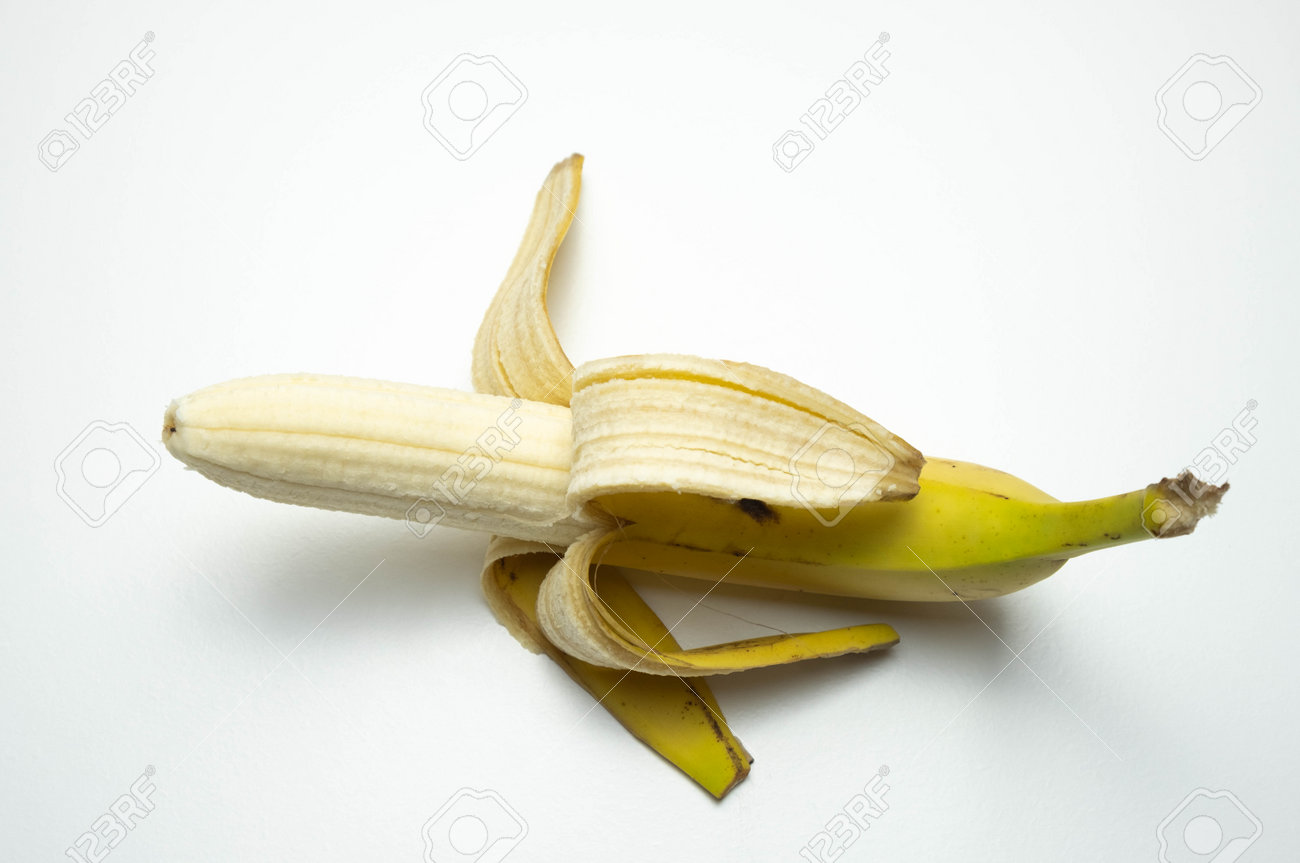banana: (163, 144, 1239, 792)
